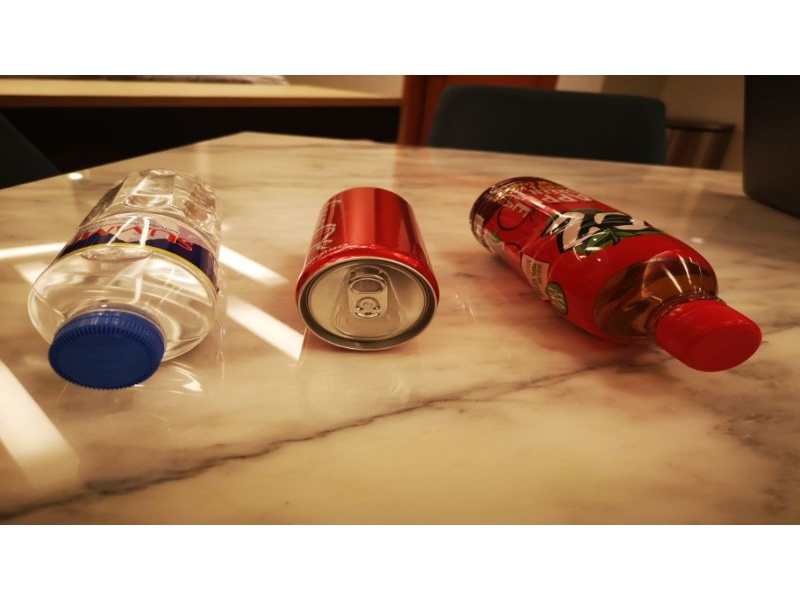PET #1: (470, 171, 766, 377), (27, 152, 227, 389)
